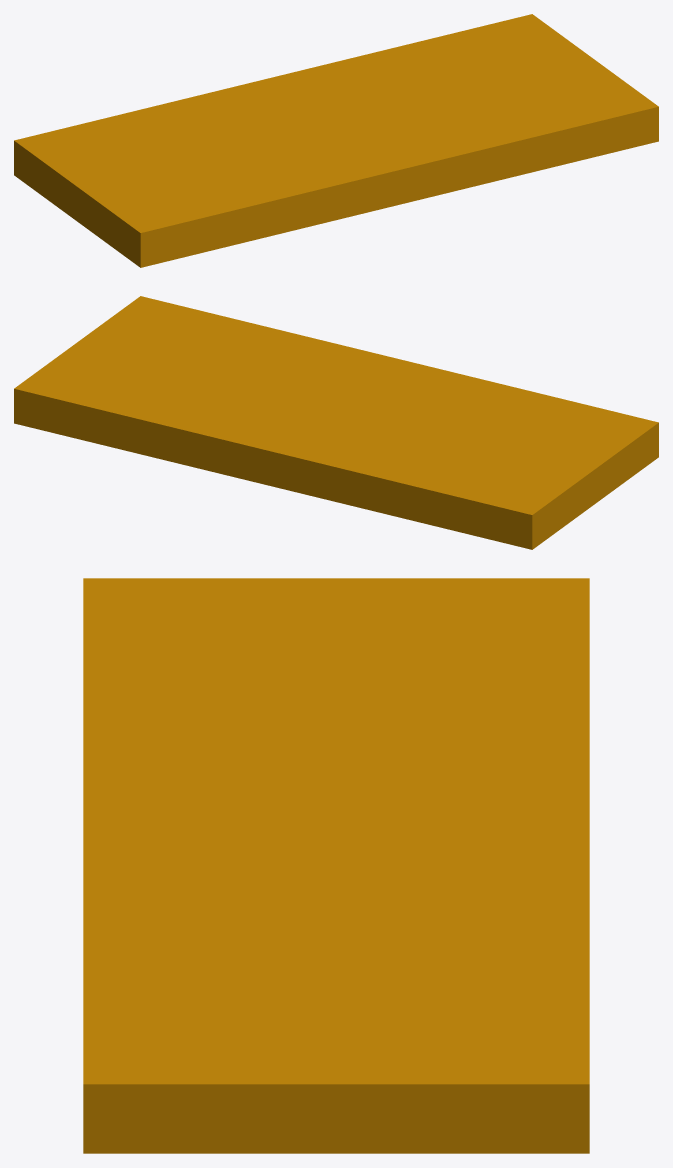
3 renders of one model, top to bottom at view 1: azimuth 30°, elevation 25°; view 2: azimuth 150°, elevation 25°; view 3: azimuth 270°, elevation 25°, orthographic. The views are drawn at different scales.
Visible parts, largest first — view 1: Bundle_of_dollars; view 2: Bundle_of_dollars; view 3: Bundle_of_dollars.
Part boxes in pixels (bbox=[...]): Bundle_of_dollars: bbox=[14, 14, 658, 267]; Bundle_of_dollars: bbox=[14, 296, 658, 549]; Bundle_of_dollars: bbox=[83, 578, 589, 1153].
Bounding box in the file's own units: 15.6 × 1 × 6.6.
